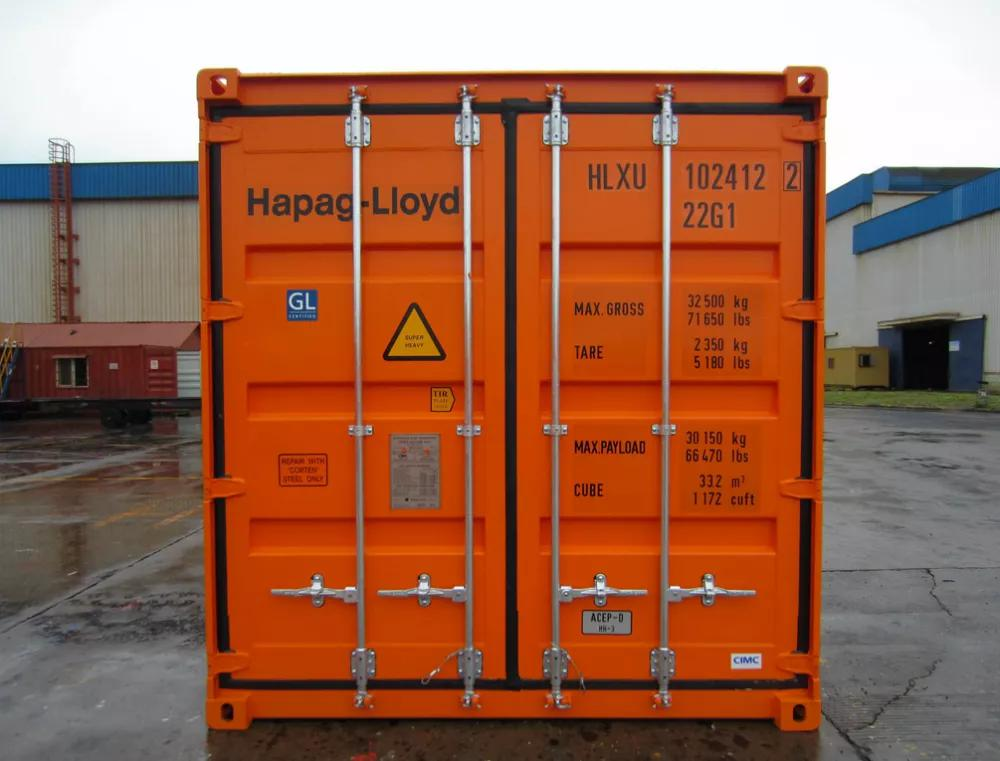ContainerNum: (586, 158, 803, 231)
